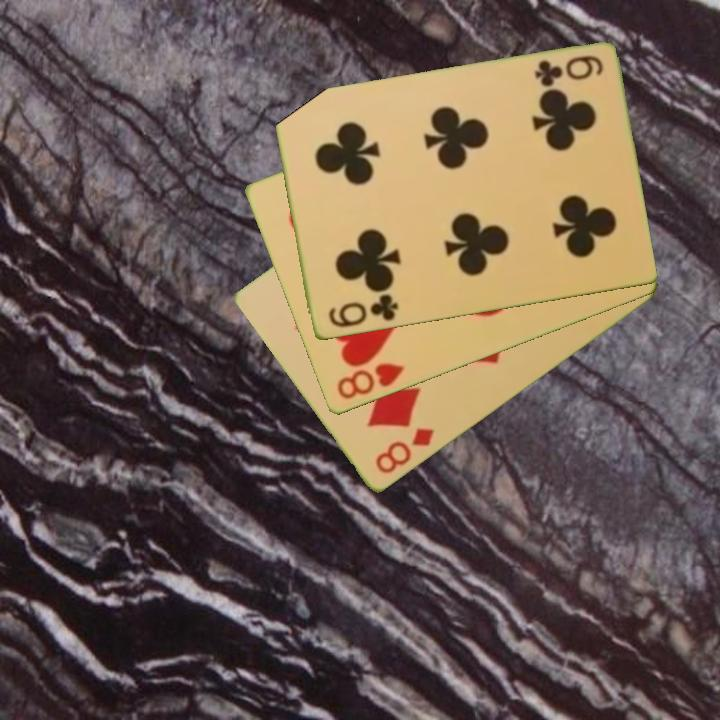6c: (324, 291, 401, 331), (530, 52, 605, 90)
8d: (371, 425, 437, 478)
8h: (333, 360, 408, 403)
